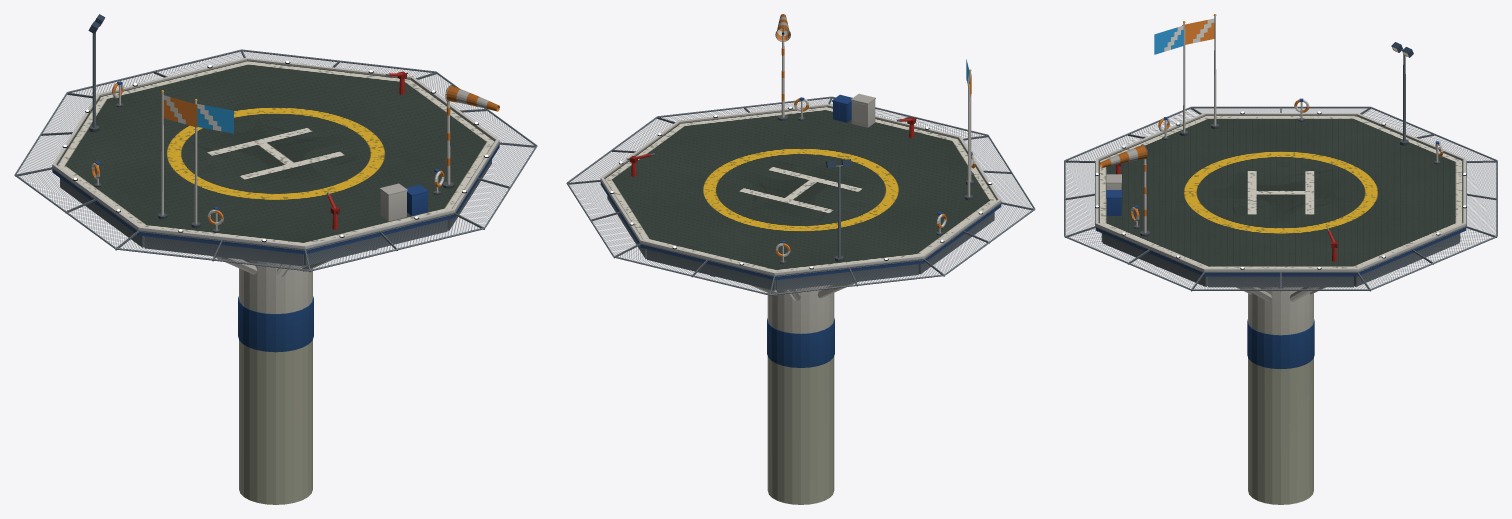
The model's file is online_heliport.glb.
The picture shows the model from 3 angles, left to right: view 1: azimuth 30°, elevation 25°; view 2: azimuth 150°, elevation 25°; view 3: azimuth 270°, elevation 25°; orthographic projection. The views are drawn at different scales.
Visible parts, largest first — view 1: OHP_Pad, OHP_Props, OHP_FlagB, OHP_FlagA, OHP_Windsock; view 2: OHP_Pad, OHP_Props; view 3: OHP_Pad, OHP_Props, OHP_FlagA, OHP_FlagB, OHP_Windsock.
Boxes of the visible parts, bbox=[...] form: OHP_Pad: bbox=[14, 49, 537, 504]; OHP_Props: bbox=[88, 14, 454, 232]; OHP_FlagB: bbox=[197, 104, 233, 133]; OHP_FlagA: bbox=[163, 95, 197, 127]; OHP_Windsock: bbox=[445, 85, 499, 111]; OHP_Pad: bbox=[566, 96, 1035, 504]; OHP_Props: bbox=[626, 34, 975, 263]; OHP_Pad: bbox=[1064, 106, 1497, 504]; OHP_Props: bbox=[1106, 14, 1443, 261]; OHP_FlagA: bbox=[1182, 18, 1214, 44]; OHP_FlagB: bbox=[1154, 25, 1183, 54]; OHP_Windsock: bbox=[1099, 144, 1147, 167].
Bounding box in the file's own units: 21.08 × 22.08 × 21.08.
6 materials, 2 textured.
